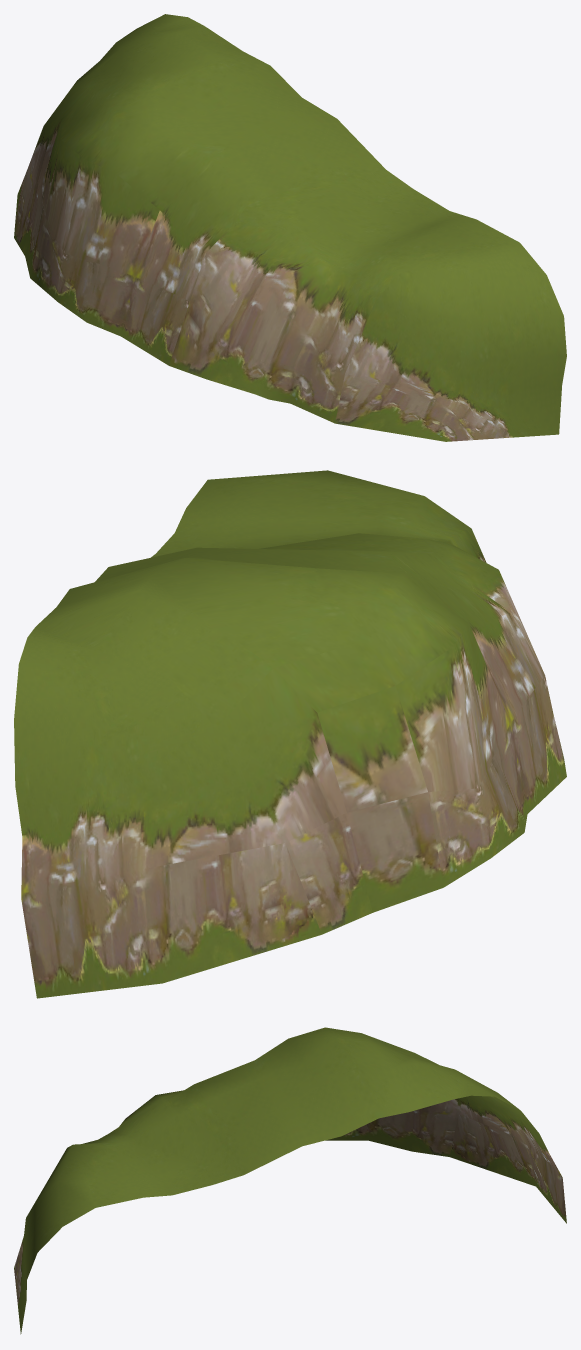
Rendered from gaoyuan_bianyuan_02 (10).fbx.
The picture shows the model from 3 angles, top to bottom: view 1: azimuth 30°, elevation 25°; view 2: azimuth 150°, elevation 25°; view 3: azimuth 270°, elevation 25°; orthographic projection. The views are drawn at different scales.
Parts seen in each view (by area): view 1: gaoyuan_bianyuan_02 (10); view 2: gaoyuan_bianyuan_02 (10); view 3: gaoyuan_bianyuan_02 (10).
Part boxes in pixels (x1,y1,x2,y2): gaoyuan_bianyuan_02 (10): (14, 14, 566, 441); gaoyuan_bianyuan_02 (10): (14, 470, 566, 998); gaoyuan_bianyuan_02 (10): (14, 1027, 566, 1334).
Size of the model in its own units: 6.73 by 4.99 by 11.61.
